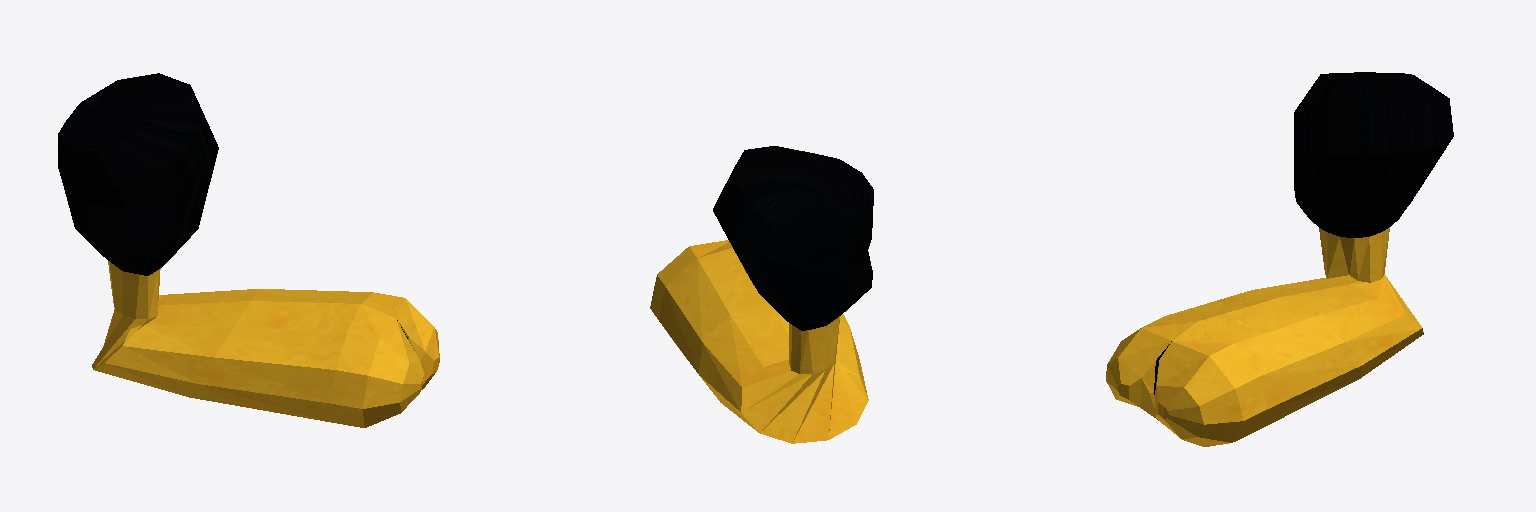
3 renders of one model, left to right at view 1: azimuth 30°, elevation 25°; view 2: azimuth 150°, elevation 25°; view 3: azimuth 270°, elevation 25°, orthographic.
Parts seen in each view (by area): view 1: Cylinder; view 2: Cylinder; view 3: Cylinder.
Part boxes in pixels (x1,y1,x2,y2): Cylinder: (58, 73, 439, 427); Cylinder: (650, 146, 873, 443); Cylinder: (1106, 72, 1453, 446).
Bounding box in the file's own units: 0.9761 × 0.9486 × 1.03.
2 materials, 2 textured.